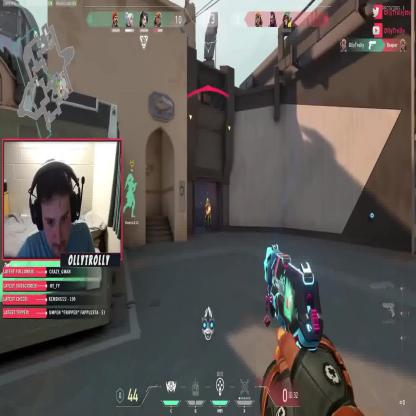enemy: (204, 198, 212, 233)
enemy_head: (206, 198, 210, 205)
